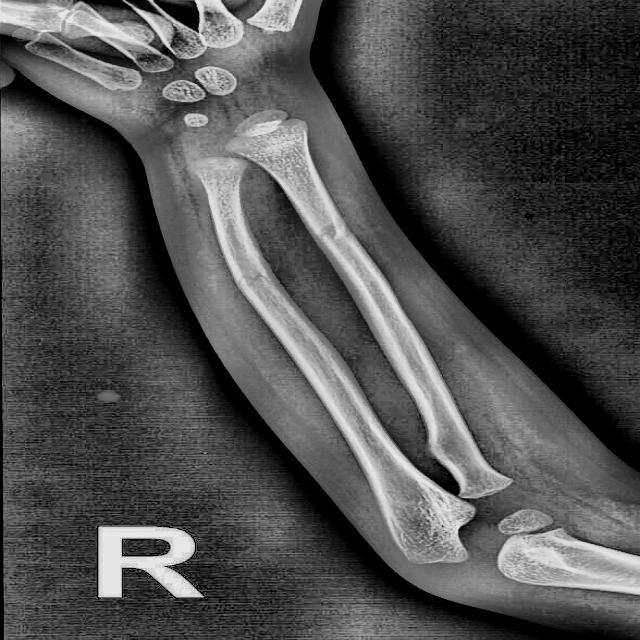fracture: (310, 216, 358, 249), (236, 268, 276, 292)
